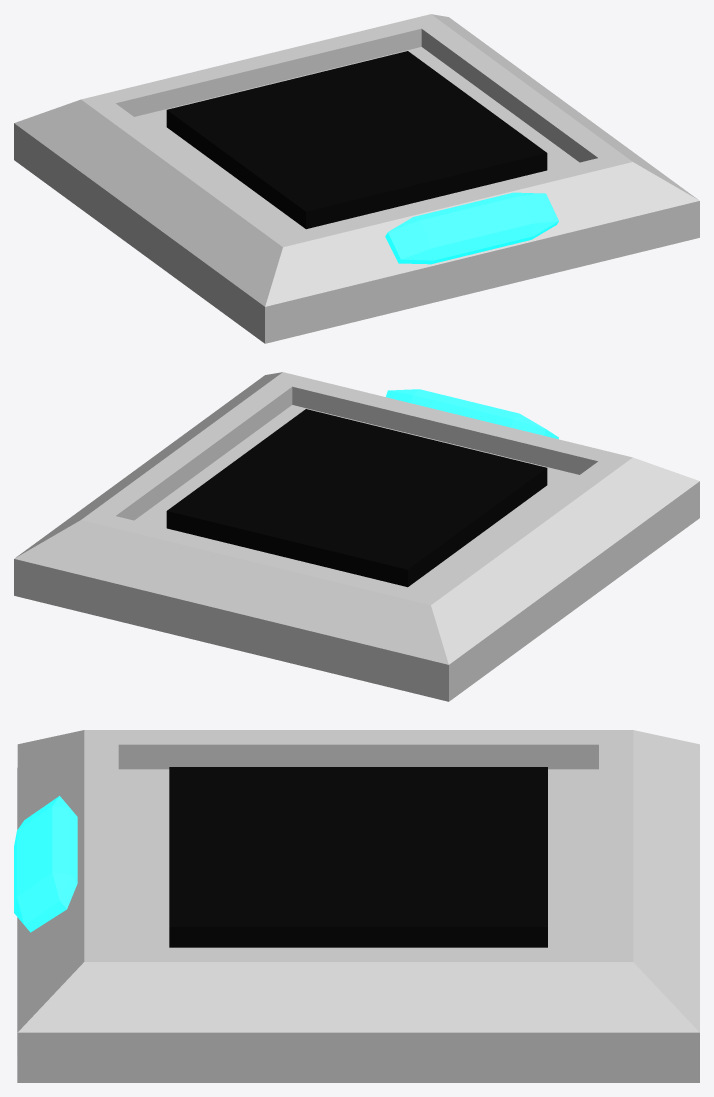
Rendered from Button_w_light.fbx.
3 views of the same model, one above another, from view 1: azimuth 30°, elevation 25°; view 2: azimuth 150°, elevation 25°; view 3: azimuth 270°, elevation 25° (orthographic). The views are drawn at different scales.
Visible parts, largest first — view 1: Plane.001, Plane.003; view 2: Plane.001, Plane.003; view 3: Plane.001, Plane.003.
Part boxes in pixels (box(x1,y1,x2,y2)): Plane.001: box(14, 14, 699, 343); Plane.003: box(385, 192, 558, 264); Plane.001: box(14, 372, 699, 701); Plane.003: box(386, 389, 558, 439); Plane.001: box(17, 730, 699, 1082); Plane.003: box(14, 796, 77, 932).
Bounding box in the file's own units: 186 × 29.94 × 187.
